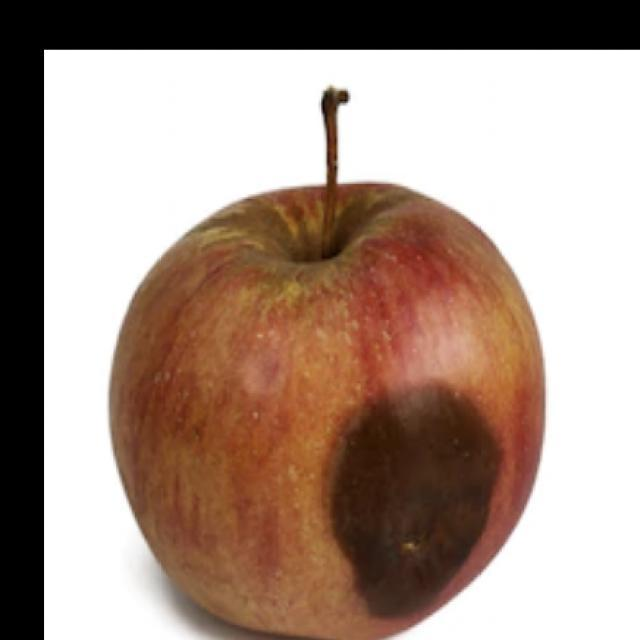Rotten: (113, 170, 545, 640)
